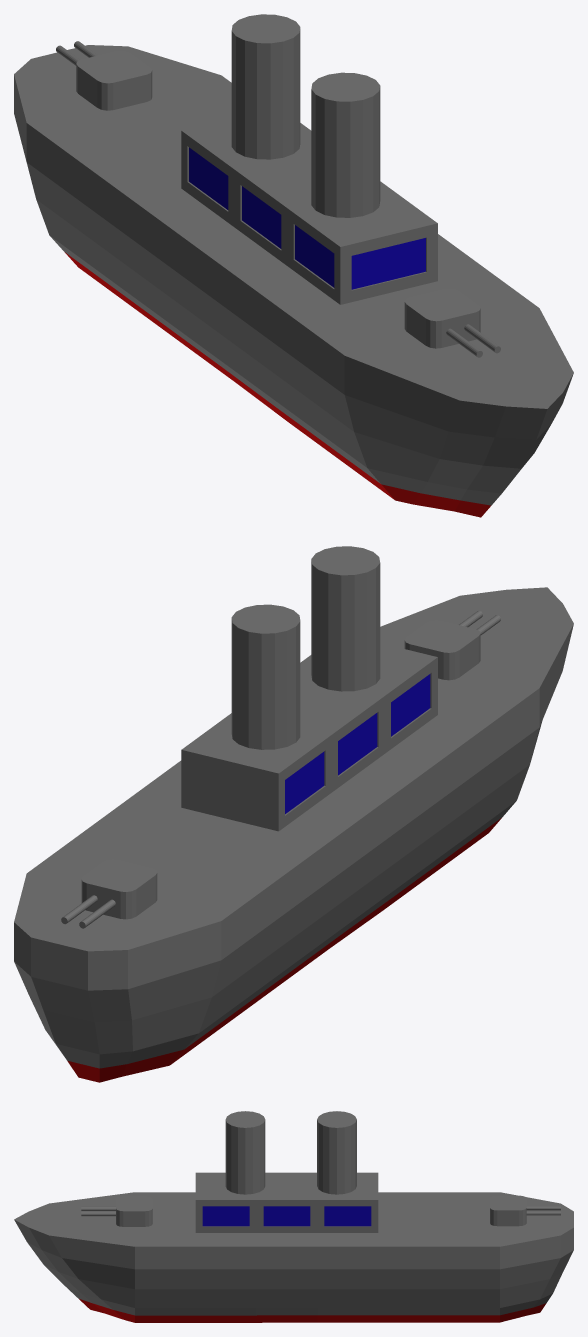
The model's file is three_tile_ship.fbx.
The picture shows the model from 3 angles, top to bottom: view 1: azimuth 30°, elevation 25°; view 2: azimuth 150°, elevation 25°; view 3: azimuth 270°, elevation 25°; orthographic projection. The views are drawn at different scales.
Visible parts, largest first — view 1: hull, Cylinder.001, Cylinder, turret.001, turret; view 2: hull, Cylinder, Cylinder.001, turret.001, turret; view 3: hull, Cylinder, Cylinder.001, turret.001, turret.
Part boxes in pixels (<box>): hull: <box>14,45,573,517</box>; Cylinder.001: <box>231,14,300,159</box>; Cylinder: <box>311,72,380,217</box>; turret.001: <box>76,50,152,110</box>; turret: <box>404,288,480,348</box>; hull: <box>14,587,573,1082</box>; Cylinder: <box>311,546,380,691</box>; Cylinder.001: <box>231,604,300,749</box>; turret.001: <box>81,859,157,919</box>; turret: <box>404,620,480,680</box>; hull: <box>14,1172,573,1322</box>; Cylinder: <box>225,1111,265,1194</box>; Cylinder.001: <box>317,1111,356,1194</box>; turret.001: <box>490,1195,526,1226</box>; turret: <box>116,1196,152,1226</box>.
Bounding box in the file's own units: 5.62 × 2.11 × 1.3.
